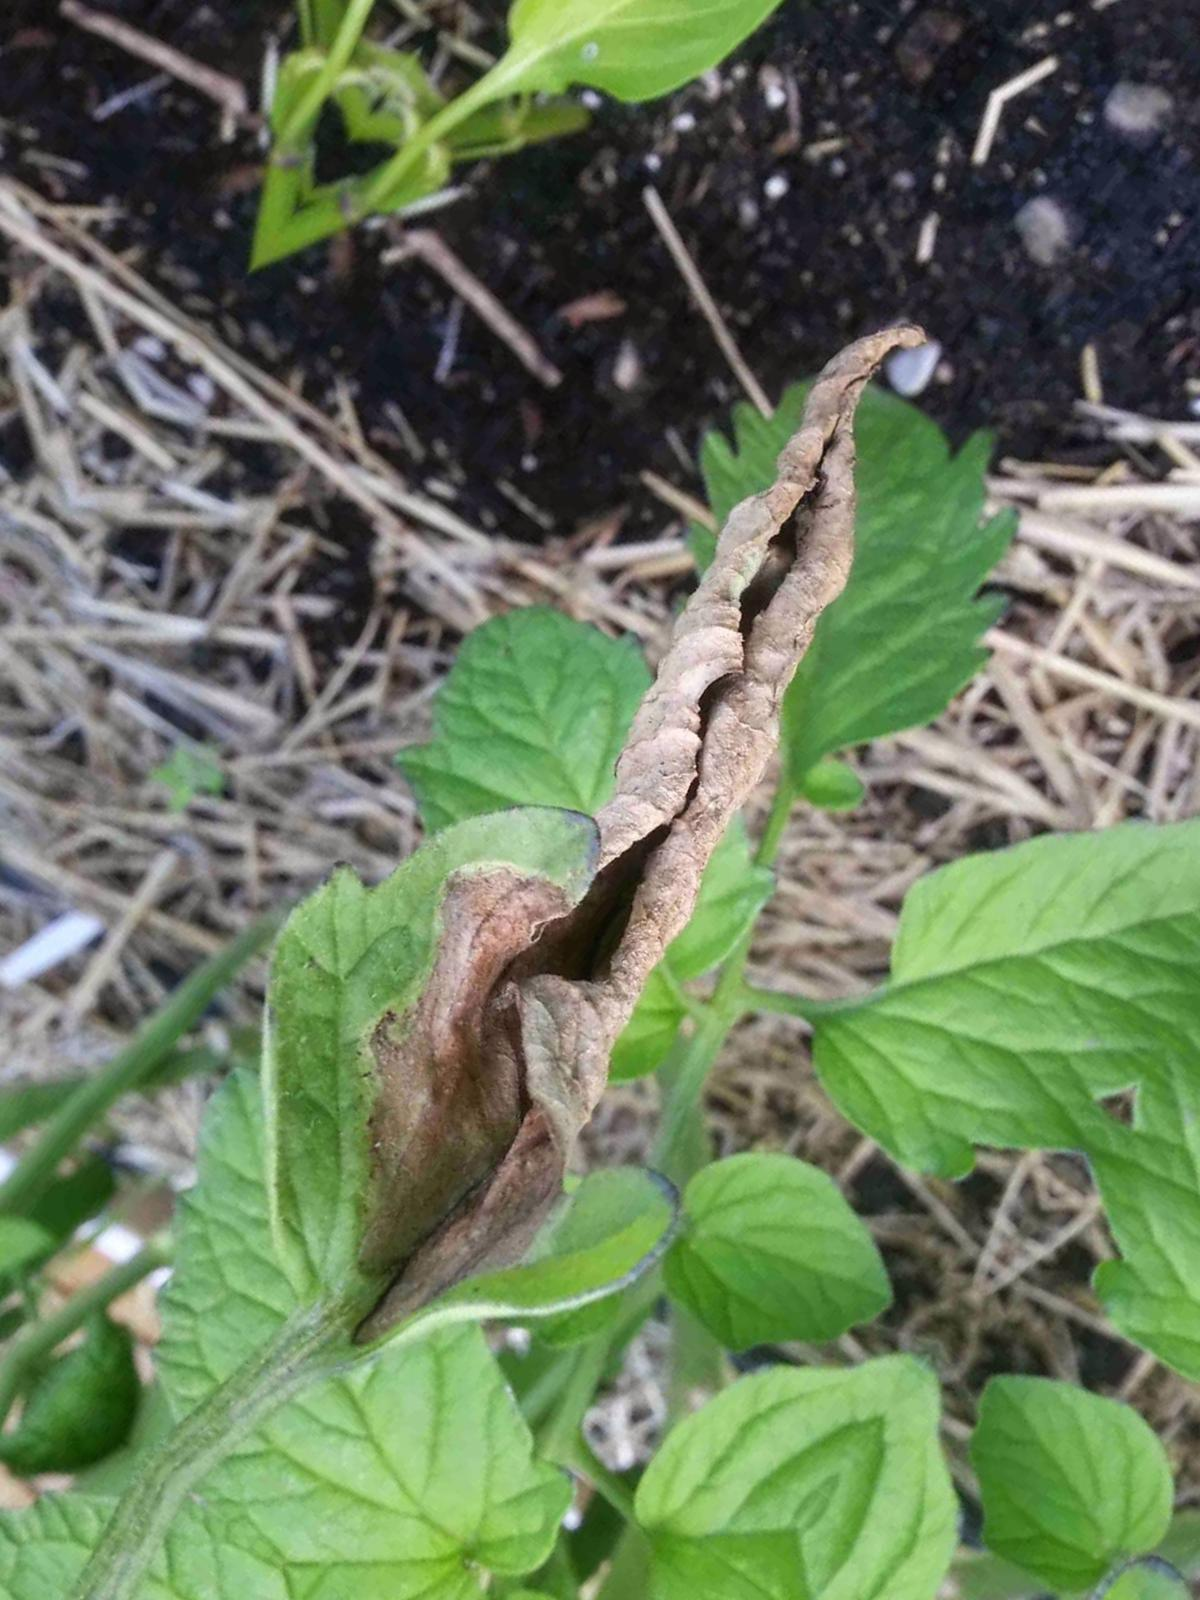Tomato leaf late blight: (78, 249, 1179, 1487)
